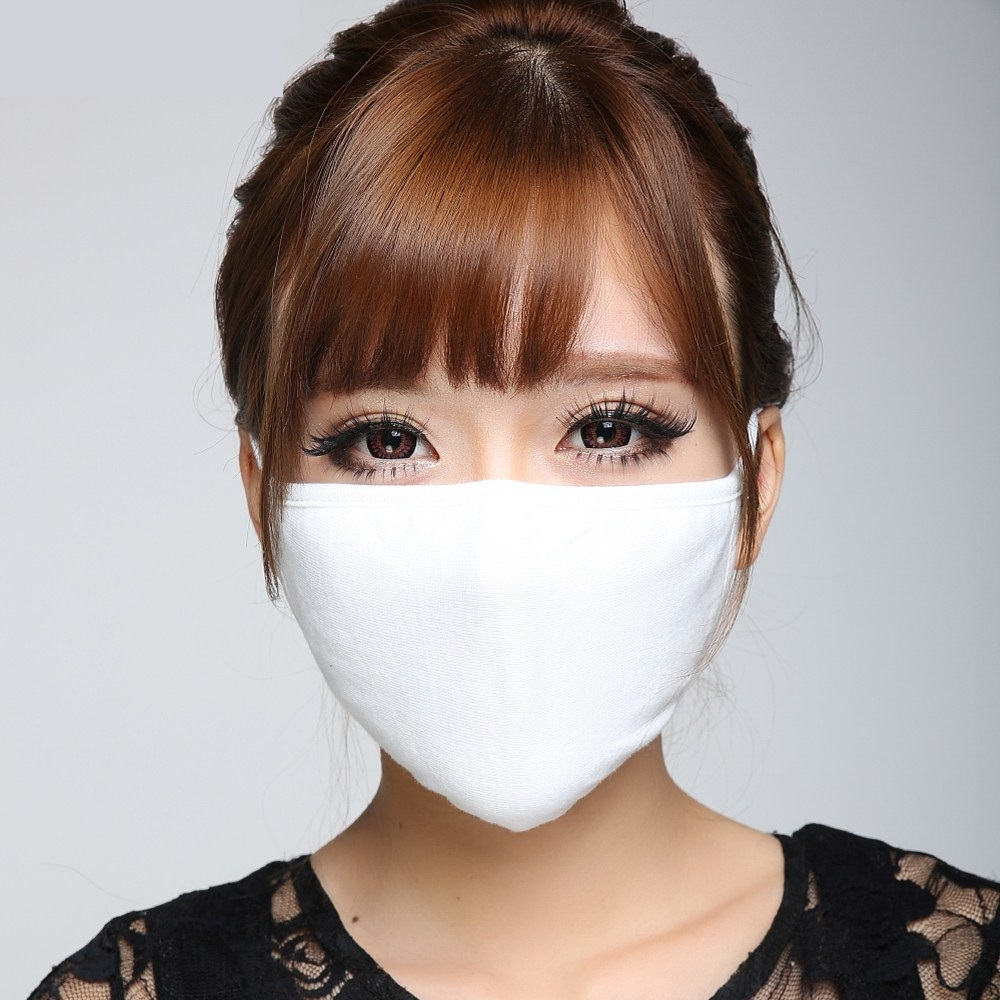face_mask: (285, 178, 730, 828)
